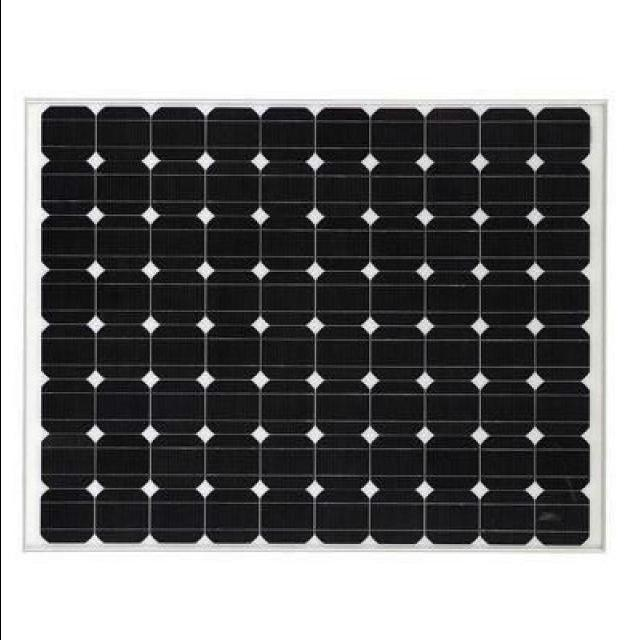no faulty: (30, 100, 588, 550)
